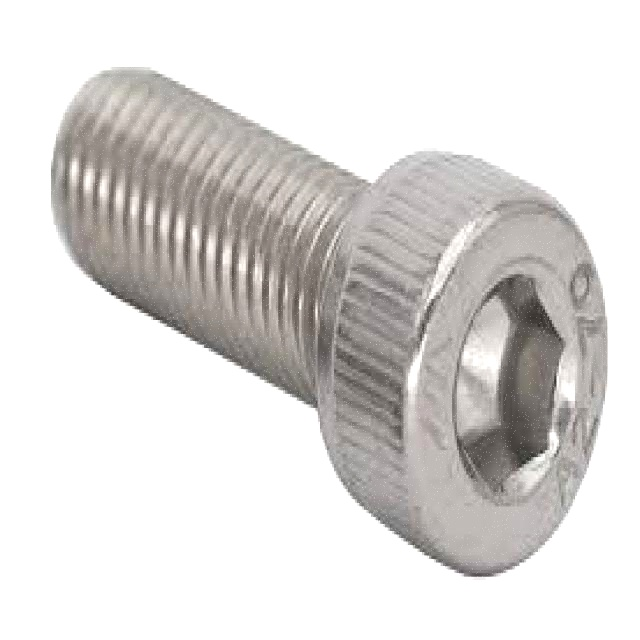allen: (405, 194, 611, 574)
